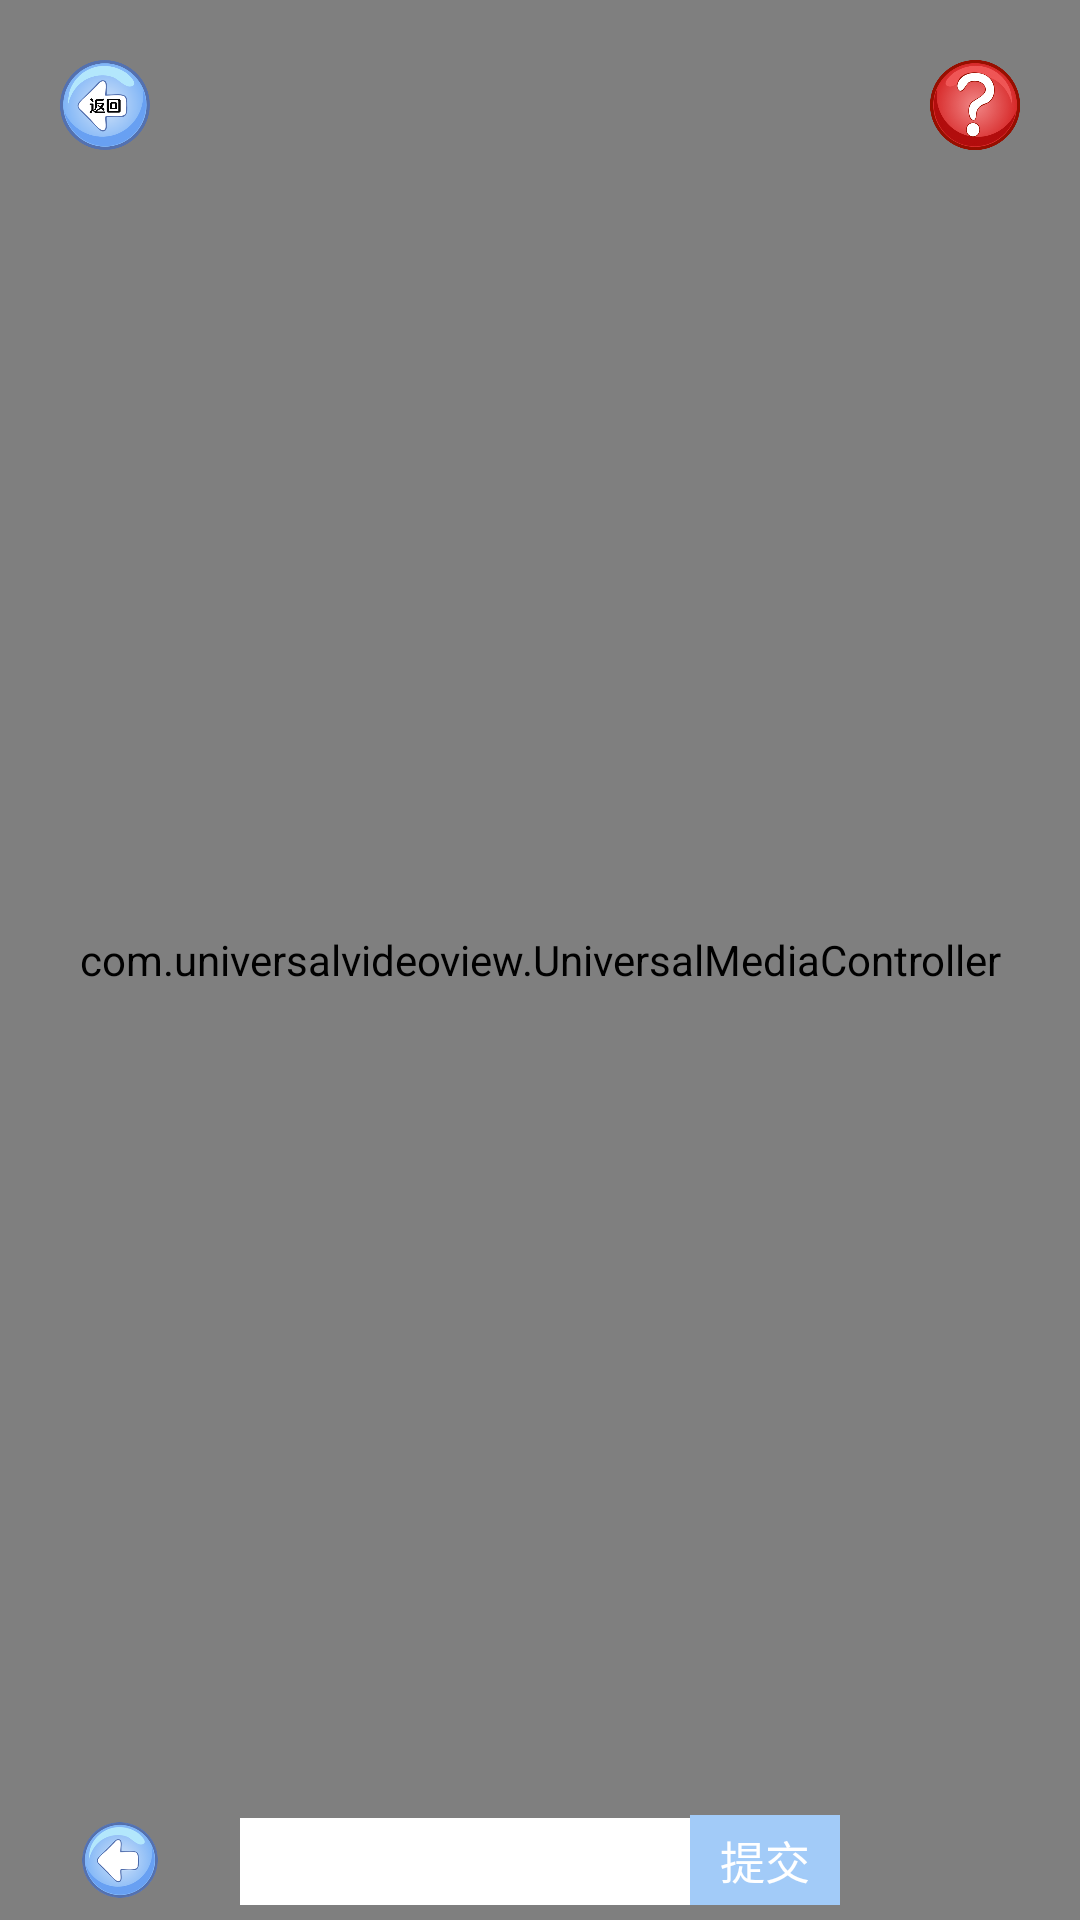

Screen size 1080px x 1920px. Icon name, then its center in pixels as (x=x, y=y):
left: (x=120, y=1860)
